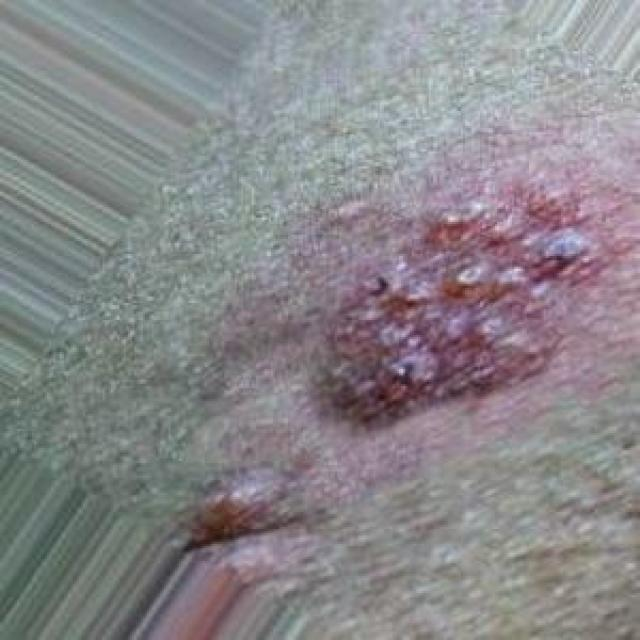Shingles: (312, 158, 609, 424)
